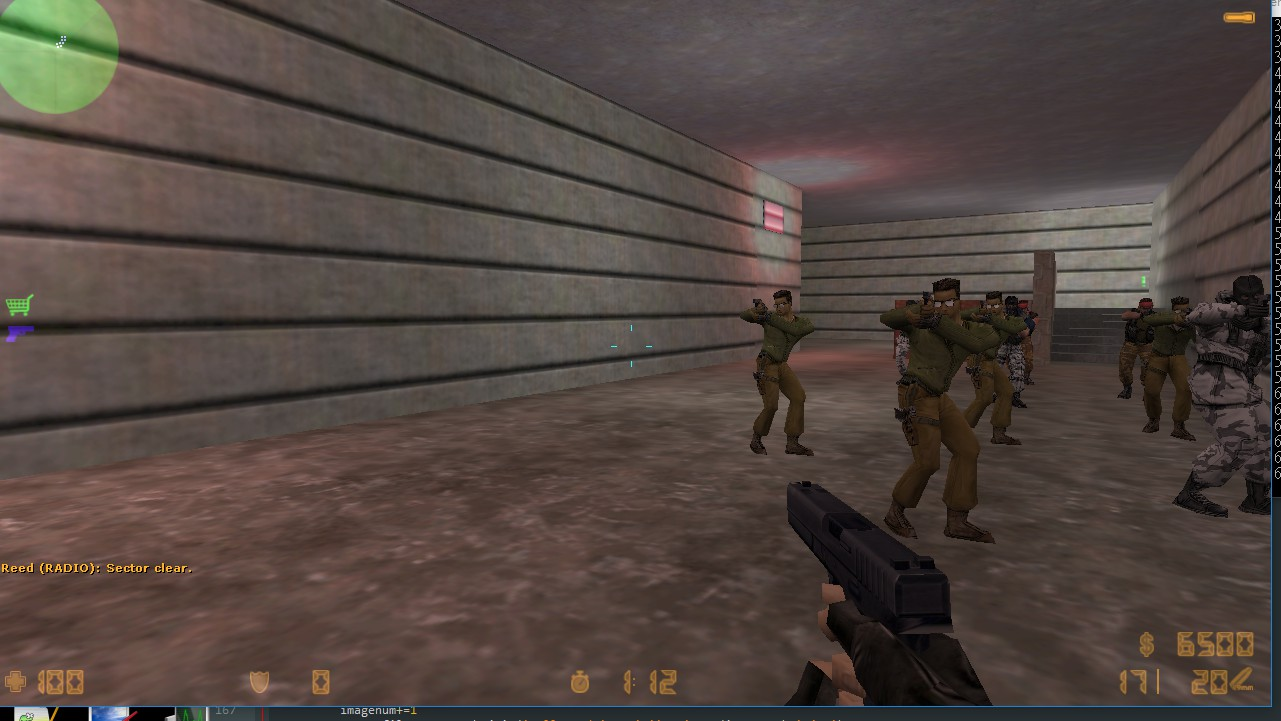person: (1202, 275, 1274, 510), (913, 273, 975, 534), (759, 285, 809, 454), (1144, 285, 1188, 438), (973, 292, 1013, 441), (1115, 297, 1151, 404)
